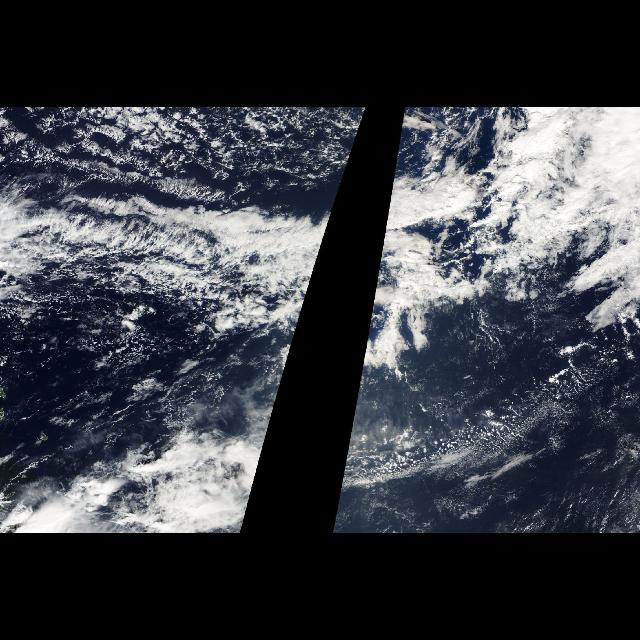Fish: (3, 158, 344, 356), (364, 178, 618, 356)
Sugar: (13, 110, 361, 364), (354, 146, 608, 470)
